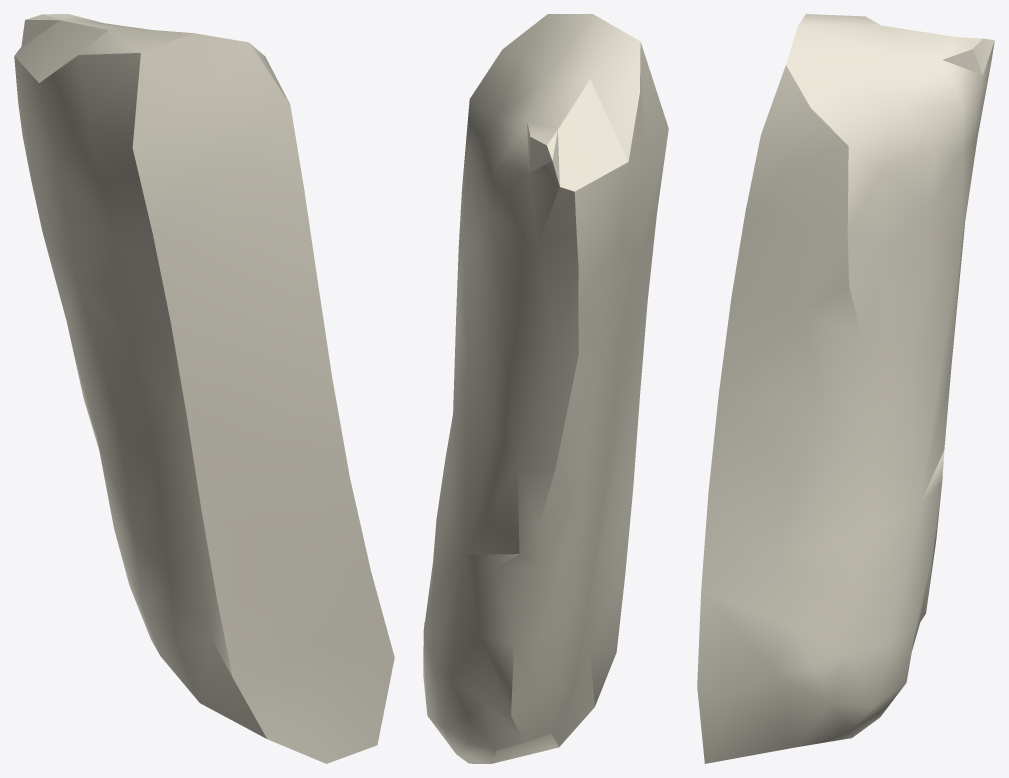
Rendered from fma42313_mm2006m.glb.
3 renders of one model, left to right at view 1: azimuth 30°, elevation 25°; view 2: azimuth 150°, elevation 25°; view 3: azimuth 270°, elevation 25°, orthographic. The views are drawn at different scales.
Parts seen in each view (by area): view 1: FMA42313_MM2006M; view 2: FMA42313_MM2006M; view 3: FMA42313_MM2006M.
Part boxes in pixels (left/top/right/bottom): FMA42313_MM2006M: left=14, top=14, right=394, bottom=763; FMA42313_MM2006M: left=423, top=14, right=668, bottom=763; FMA42313_MM2006M: left=697, top=14, right=994, bottom=763.
Size of the model in its own units: 0.00295 by 0.00831 by 0.00327.
